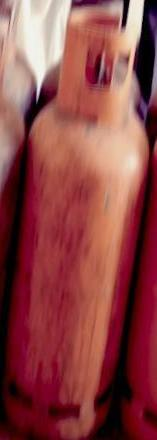cylinder: (0, 1, 157, 440)
